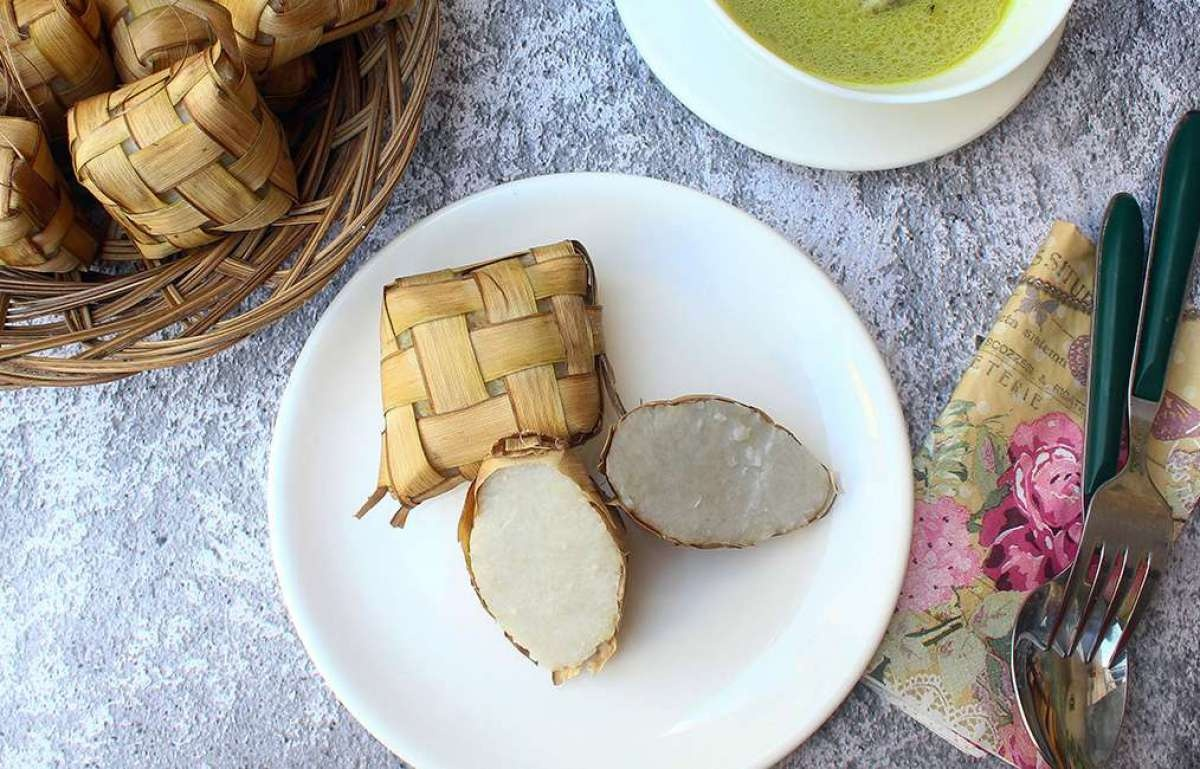ketupat: (376, 235, 605, 507), (66, 45, 296, 263)
